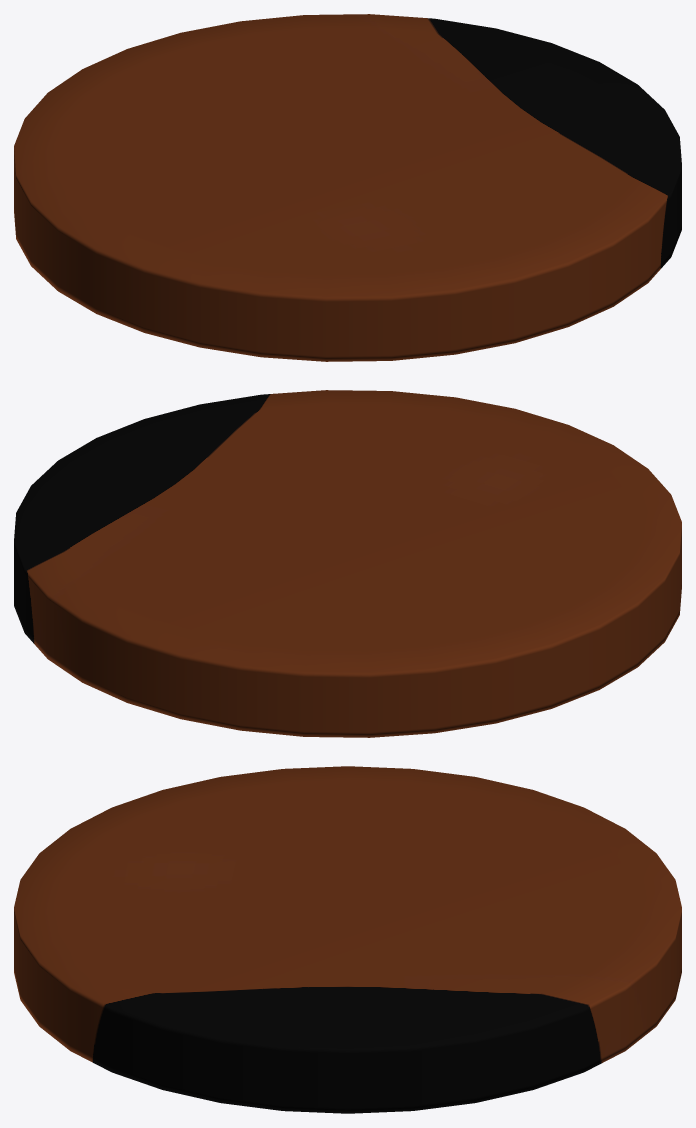
File: Target.fbx
3 views of the same model, one above another, from view 1: azimuth 30°, elevation 25°; view 2: azimuth 150°, elevation 25°; view 3: azimuth 270°, elevation 25° (orthographic).
Visible parts, largest first — view 1: PM3D_Cylinder3D_1; view 2: PM3D_Cylinder3D_1; view 3: PM3D_Cylinder3D_1.
Boxes of the visible parts, x1,y1,x2,y2 form: PM3D_Cylinder3D_1: [14, 14, 681, 361]; PM3D_Cylinder3D_1: [14, 390, 681, 737]; PM3D_Cylinder3D_1: [14, 766, 681, 1113].
Size of the model in its own units: 1.99 by 0.25 by 1.99.
